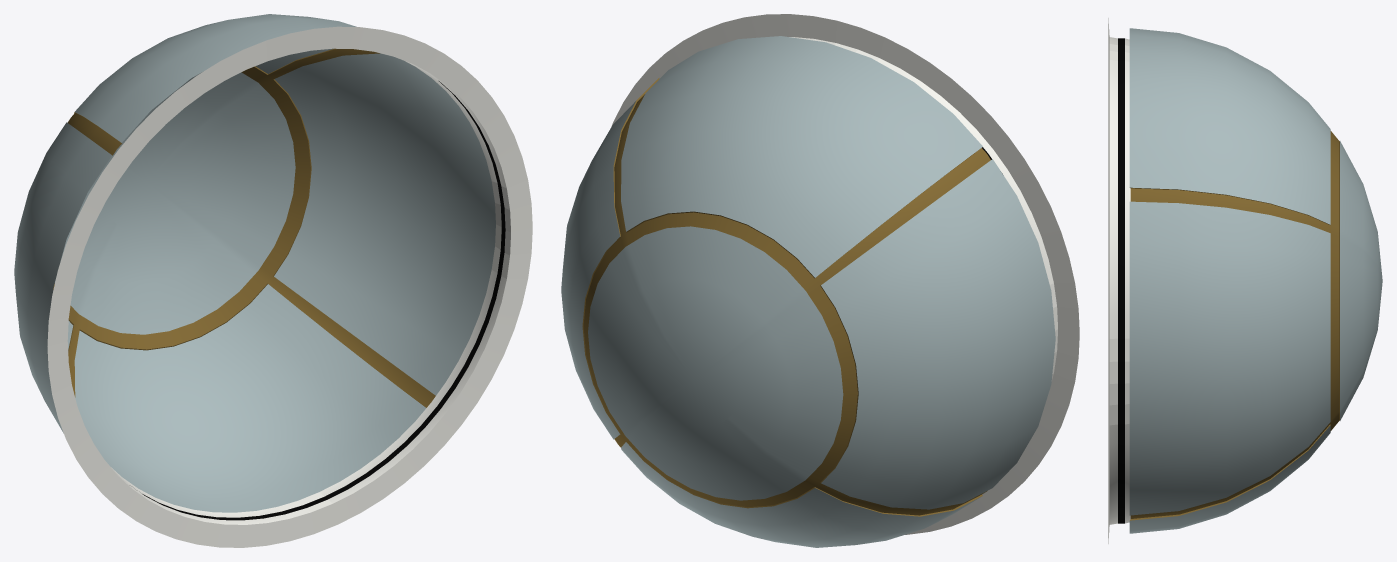
File: SpaceWindow.fbx
3 views of the same model, side by side, from view 1: azimuth 30°, elevation 25°; view 2: azimuth 150°, elevation 25°; view 3: azimuth 270°, elevation 25° (orthographic). The views are drawn at different scales.
Visible parts, largest first — view 1: Sphere.006; view 2: Sphere.006; view 3: Sphere.006.
Part boxes in pixels (x1,y1,x2,y2): Sphere.006: (14,14,532,547); Sphere.006: (561,14,1079,547); Sphere.006: (1108,18,1382,543).
Bounding box in the file's own units: 928 × 928 × 476.
